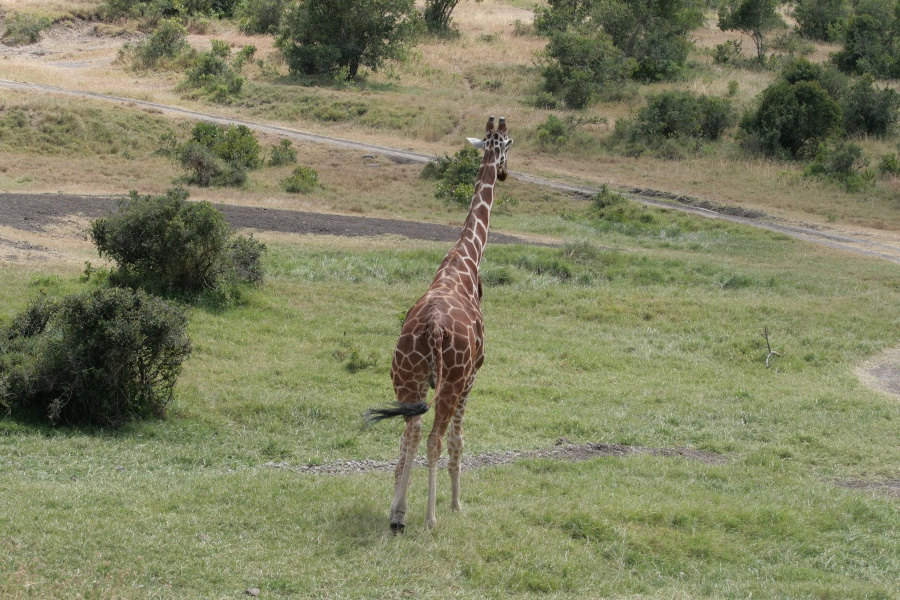giraffe: (376, 107, 519, 543)
